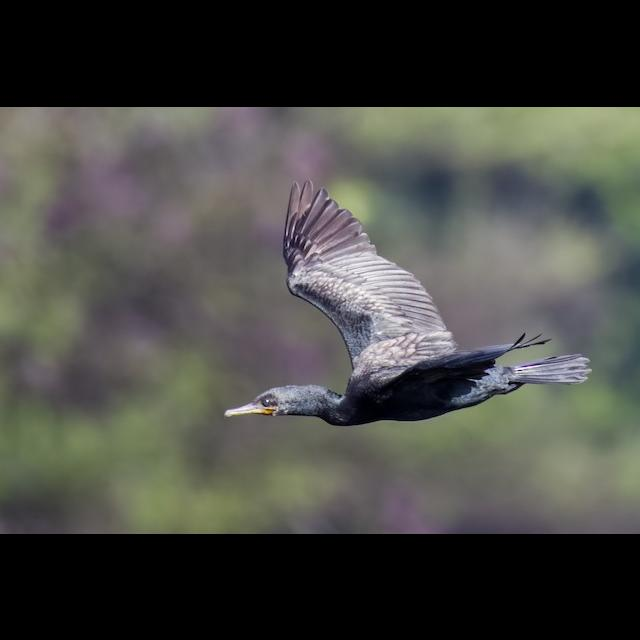cormorant: (225, 178, 590, 436)
